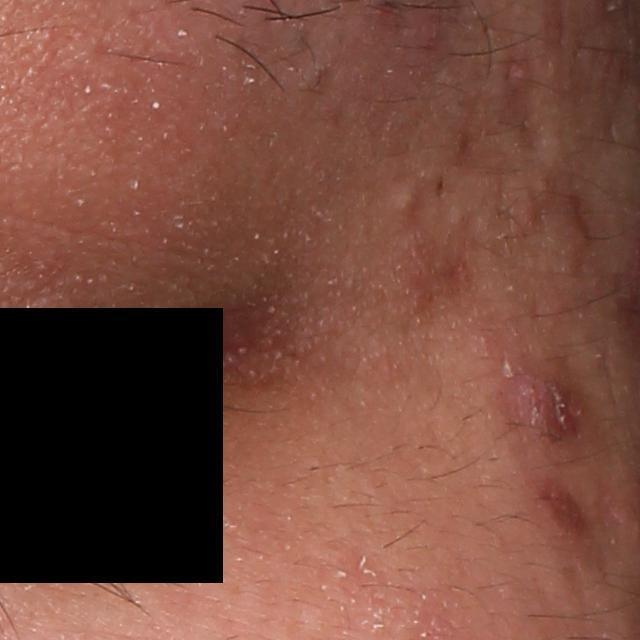atrophic_scar: (497, 53, 549, 166), (426, 244, 478, 317)
